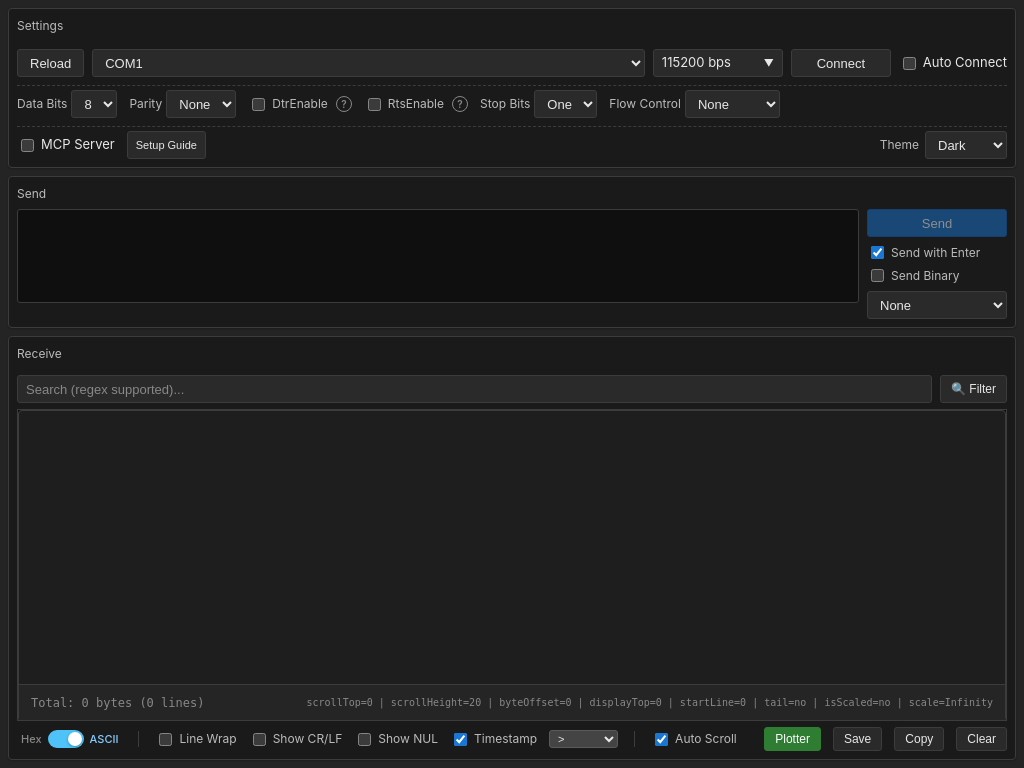
App › ignores an old disconnect event after the same port is reopened
The image size is (1024, 768).
Click the button "Connect": (841, 63) [791, 49, 891, 77]
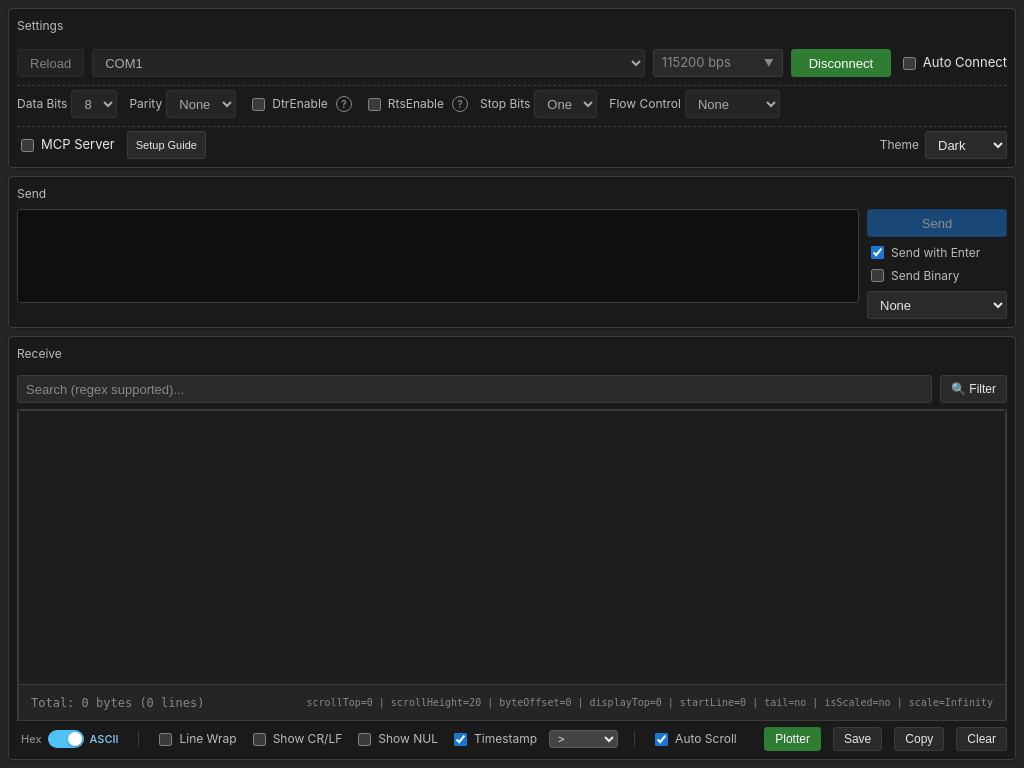
Click the button "Disconnect": (841, 63) [791, 49, 891, 77]
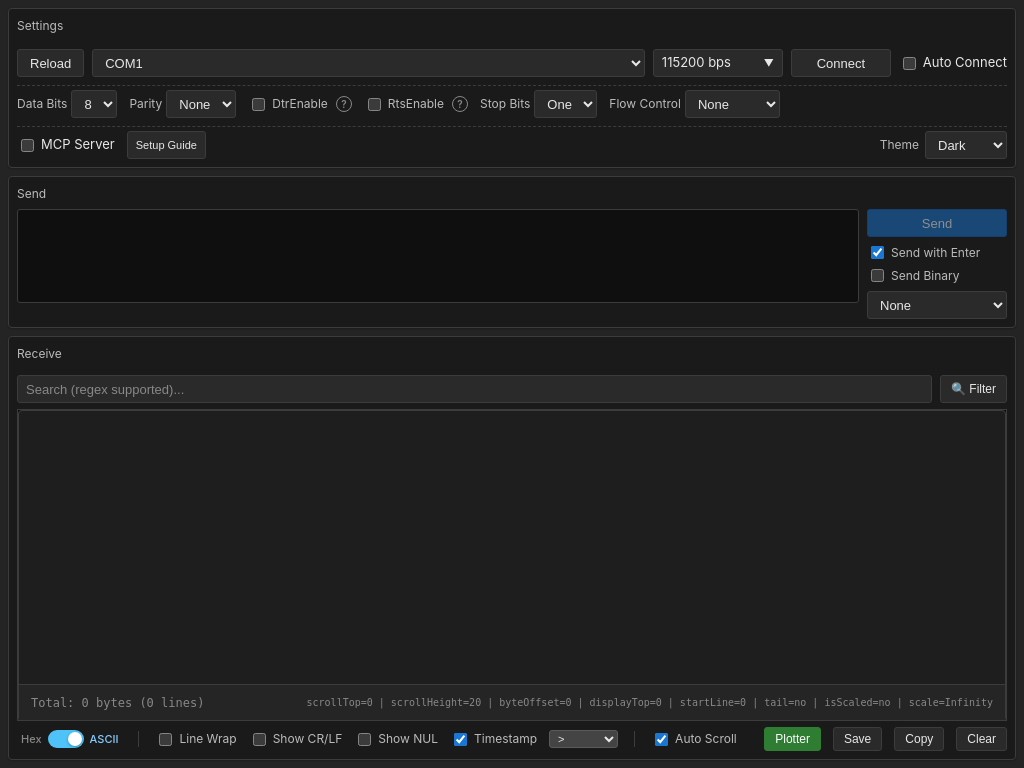
Click the button "Connect": (841, 63) [791, 49, 891, 77]
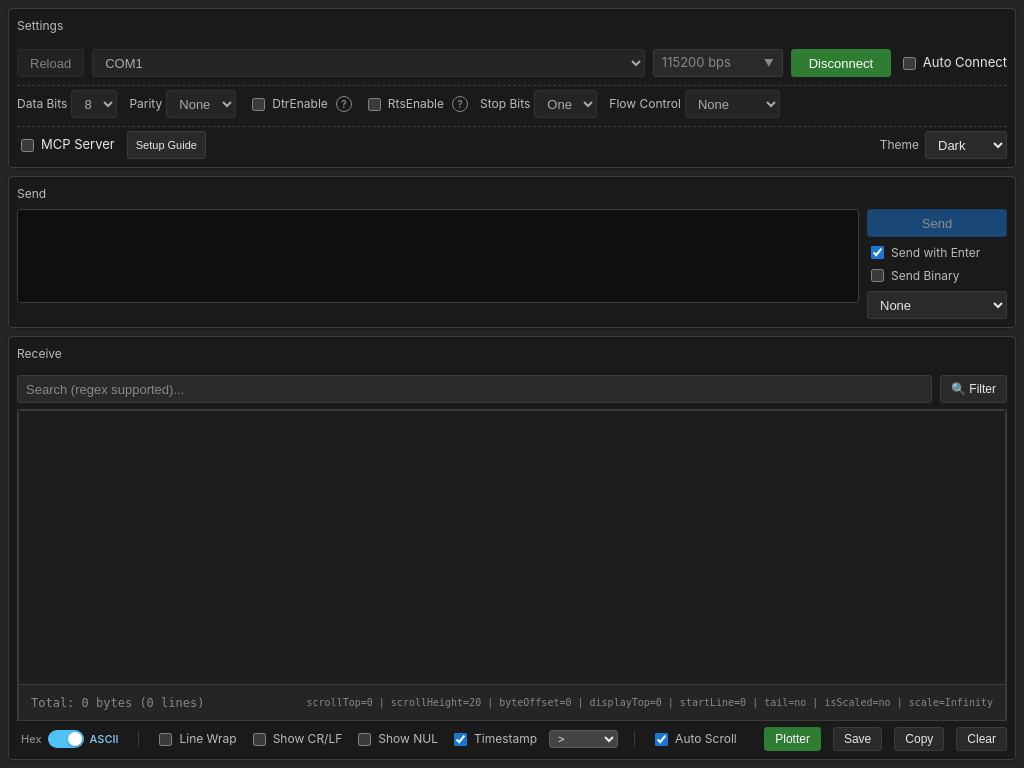
Now the button "Disconnect" is shown, box [791, 49, 891, 77]
